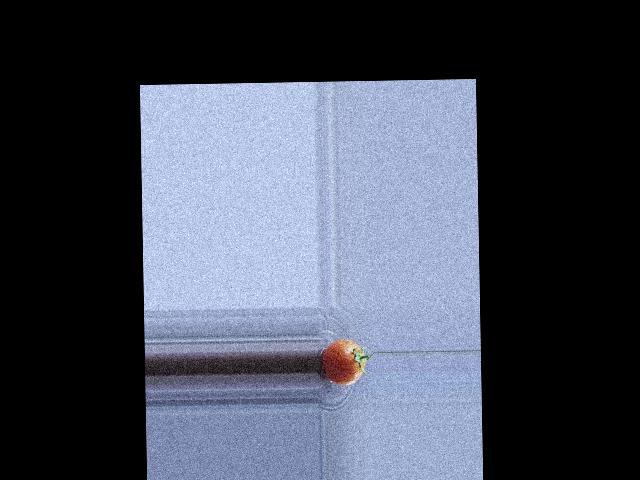tomato: (320, 339, 365, 385)
